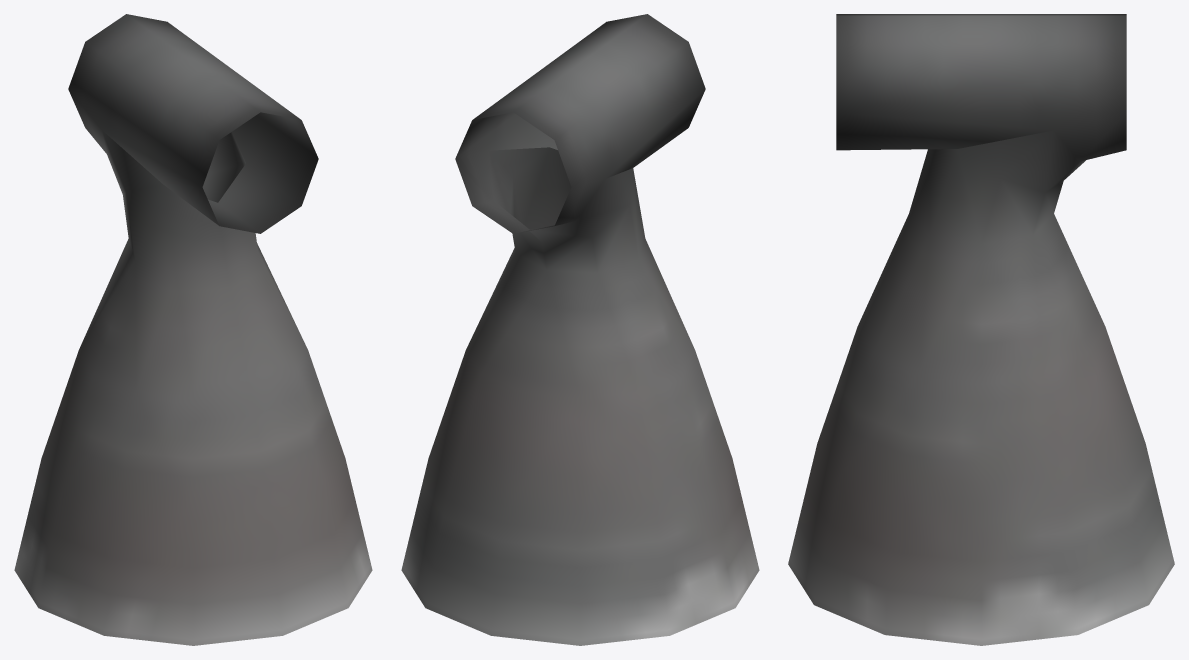
File: corvus_lv_engine_s1_2_vernier.obj
3 renders of one model, left to right at view 1: azimuth 30°, elevation 25°; view 2: azimuth 150°, elevation 25°; view 3: azimuth 270°, elevation 25°, orthographic. The views are drawn at different scales.
Parts seen in each view (by area): view 1: corvus_lv_engine_s1_2_vernier; view 2: corvus_lv_engine_s1_2_vernier; view 3: corvus_lv_engine_s1_2_vernier.
Part boxes in pixels (<box>): corvus_lv_engine_s1_2_vernier: <box>14,14,372,645</box>; corvus_lv_engine_s1_2_vernier: <box>401,14,759,645</box>; corvus_lv_engine_s1_2_vernier: <box>788,14,1174,645</box>.
Bounding box in the file's own units: 0.1 × 0.1563 × 0.1.
